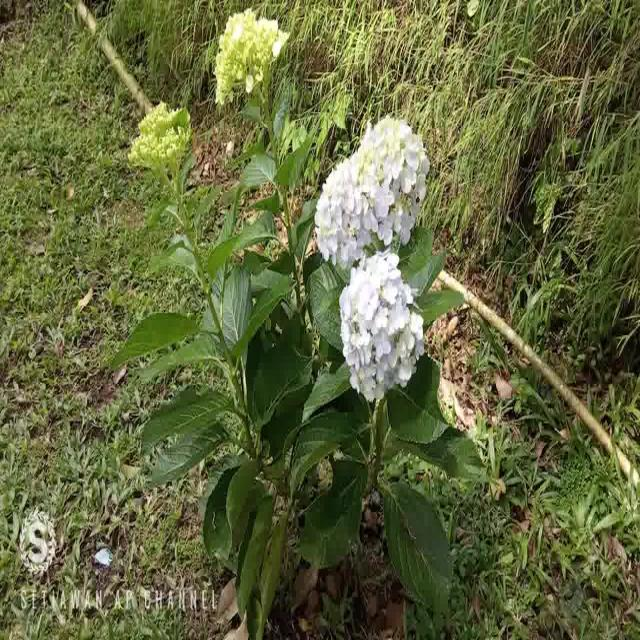Flower: (310, 113, 429, 268), (341, 259, 438, 409)
